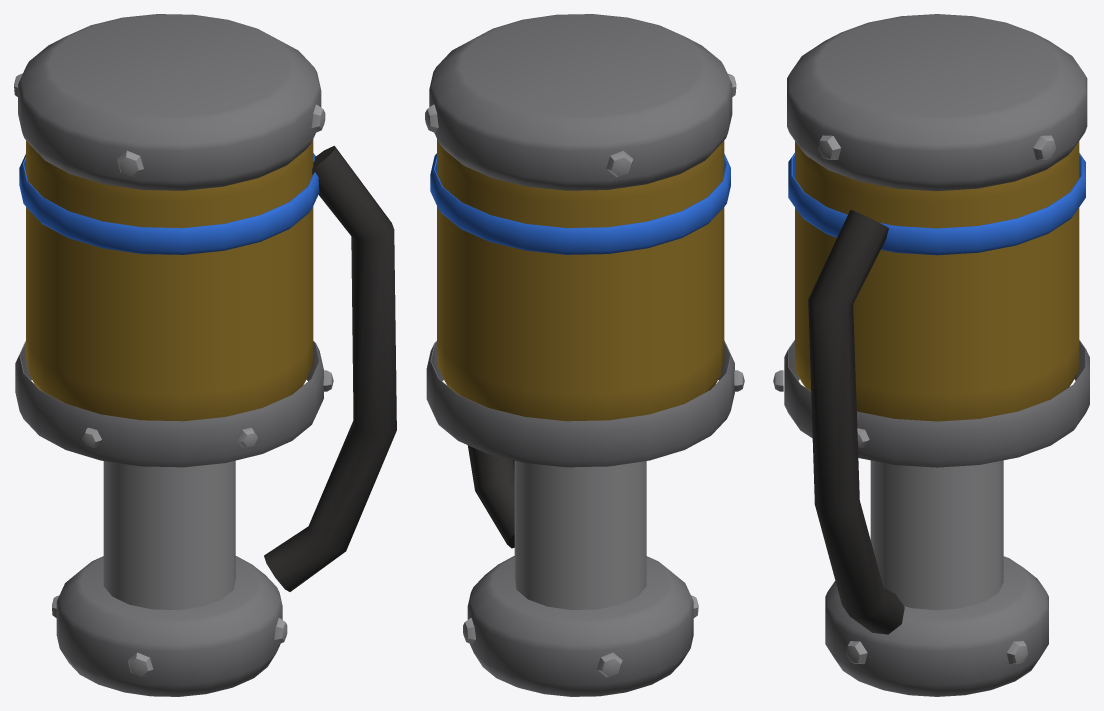
The model's file is Kit_Limb_Piston_L.glb.
The picture shows the model from 3 angles, left to right: view 1: azimuth 30°, elevation 25°; view 2: azimuth 150°, elevation 25°; view 3: azimuth 270°, elevation 25°; orthographic projection.
Parts seen in each view (by area): view 1: Kit_Limb_Piston_L; view 2: Kit_Limb_Piston_L; view 3: Kit_Limb_Piston_L.
Part boxes in pixels (x1,y1,x2,y2): Kit_Limb_Piston_L: [14, 14, 396, 696]; Kit_Limb_Piston_L: [425, 14, 744, 696]; Kit_Limb_Piston_L: [773, 14, 1089, 696].
Size of the model in its own units: 0.1983 by 0.3619 by 0.1762.
